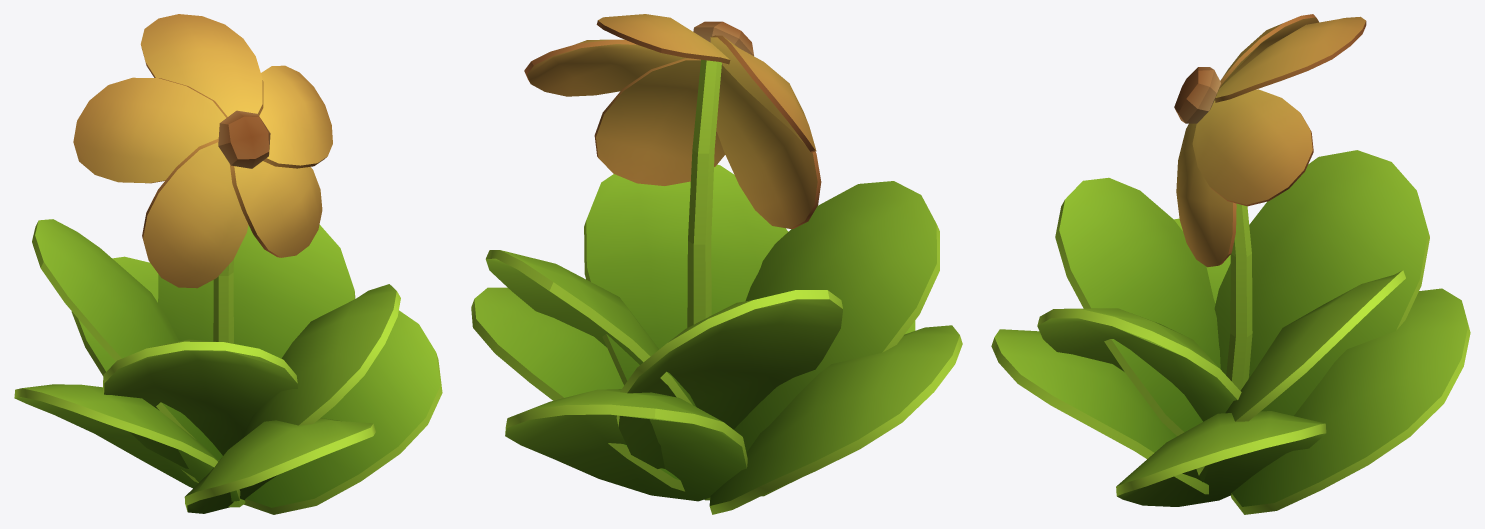
The model's file is mt_prop_p03.fbx.
3 renders of one model, left to right at view 1: azimuth 30°, elevation 25°; view 2: azimuth 150°, elevation 25°; view 3: azimuth 270°, elevation 25°, orthographic. The views are drawn at different scales.
Parts seen in each view (by area): view 1: prop_p03; view 2: prop_p03; view 3: prop_p03.
Part boxes in pixels (x1=…): prop_p03: x1=14, y1=14, x2=442, y2=514; prop_p03: x1=471, y1=14, x2=962, y2=514; prop_p03: x1=991, y1=14, x2=1470, y2=514.
Size of the model in its own units: 107 by 115 by 106.
